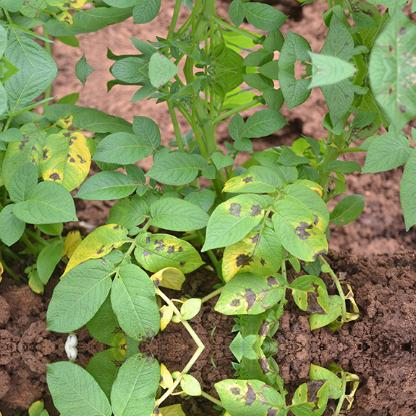Early-Blight: (65, 214, 133, 278), (211, 268, 287, 324), (140, 211, 210, 268), (42, 109, 92, 185), (201, 197, 269, 251), (211, 368, 287, 416), (270, 202, 334, 255), (294, 272, 354, 328), (294, 363, 354, 416), (213, 148, 277, 192), (366, 13, 414, 68), (366, 70, 414, 124), (4, 112, 40, 178), (215, 240, 281, 276), (148, 261, 192, 295), (42, 0, 92, 29), (294, 170, 330, 198), (4, 0, 39, 25), (148, 397, 192, 416)
